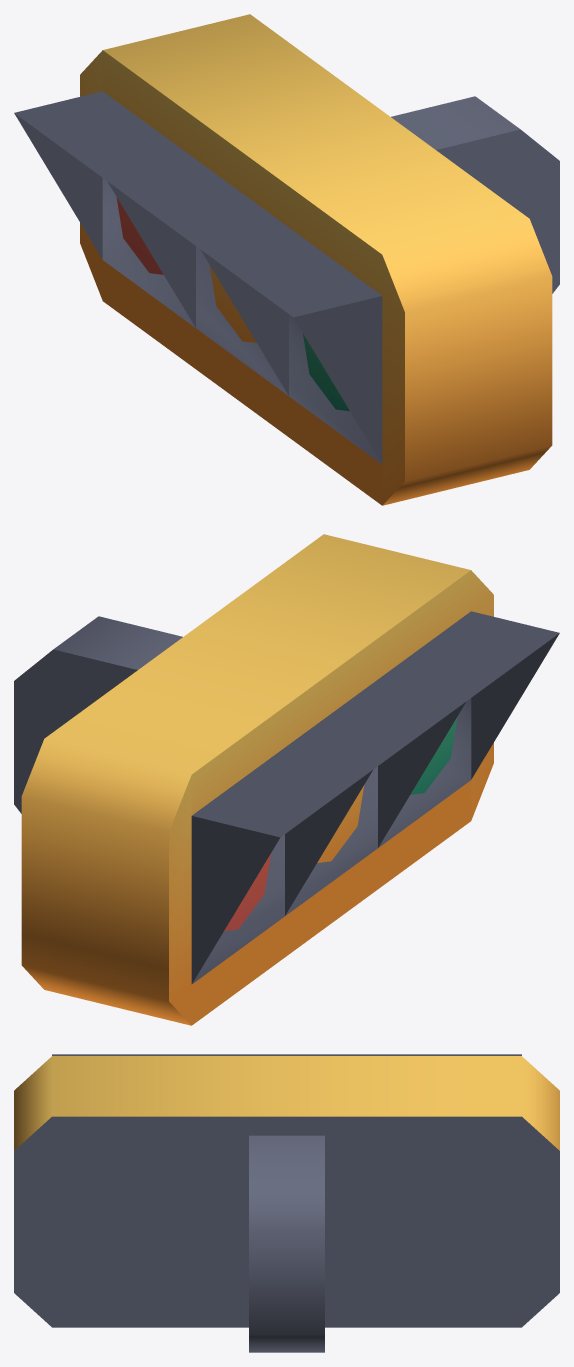
Rendered from traffic-light-object-horizontal.glb.
3 renders of one model, top to bottom at view 1: azimuth 30°, elevation 25°; view 2: azimuth 150°, elevation 25°; view 3: azimuth 270°, elevation 25°, orthographic. The views are drawn at different scales.
Parts seen in each view (by area): view 1: traffic-light-object-horizontal; view 2: traffic-light-object-horizontal; view 3: traffic-light-object-horizontal.
Boxes of the visible parts, x1=… form: traffic-light-object-horizontal: x1=14, y1=14, x2=559, y2=505; traffic-light-object-horizontal: x1=14, y1=534, x2=559, y2=1025; traffic-light-object-horizontal: x1=14, y1=1054, x2=559, y2=1352.
Size of the model in its own units: 0.0976 by 0.0611 by 0.1432.
Materials: 1 (1 with a texture image).
